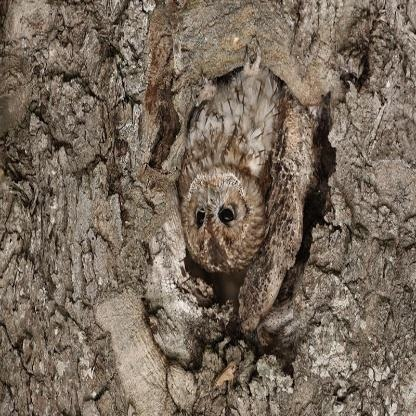Owl: (180, 69, 280, 270)
